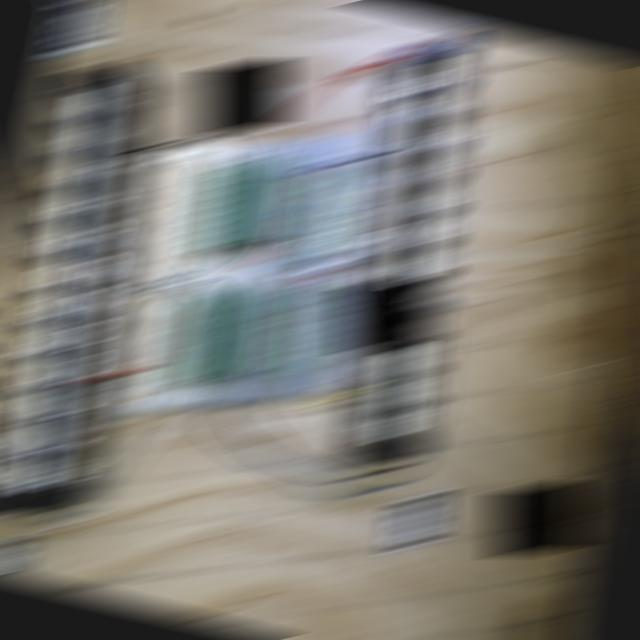Flathead_Block: (352, 31, 477, 470)
Phillips_Block: (0, 55, 136, 521)
Terminal_1: (298, 166, 346, 261), (282, 281, 328, 376)
Terminal_2: (167, 290, 214, 381), (224, 288, 271, 379), (214, 157, 260, 248), (241, 156, 287, 246), (197, 290, 242, 380)
